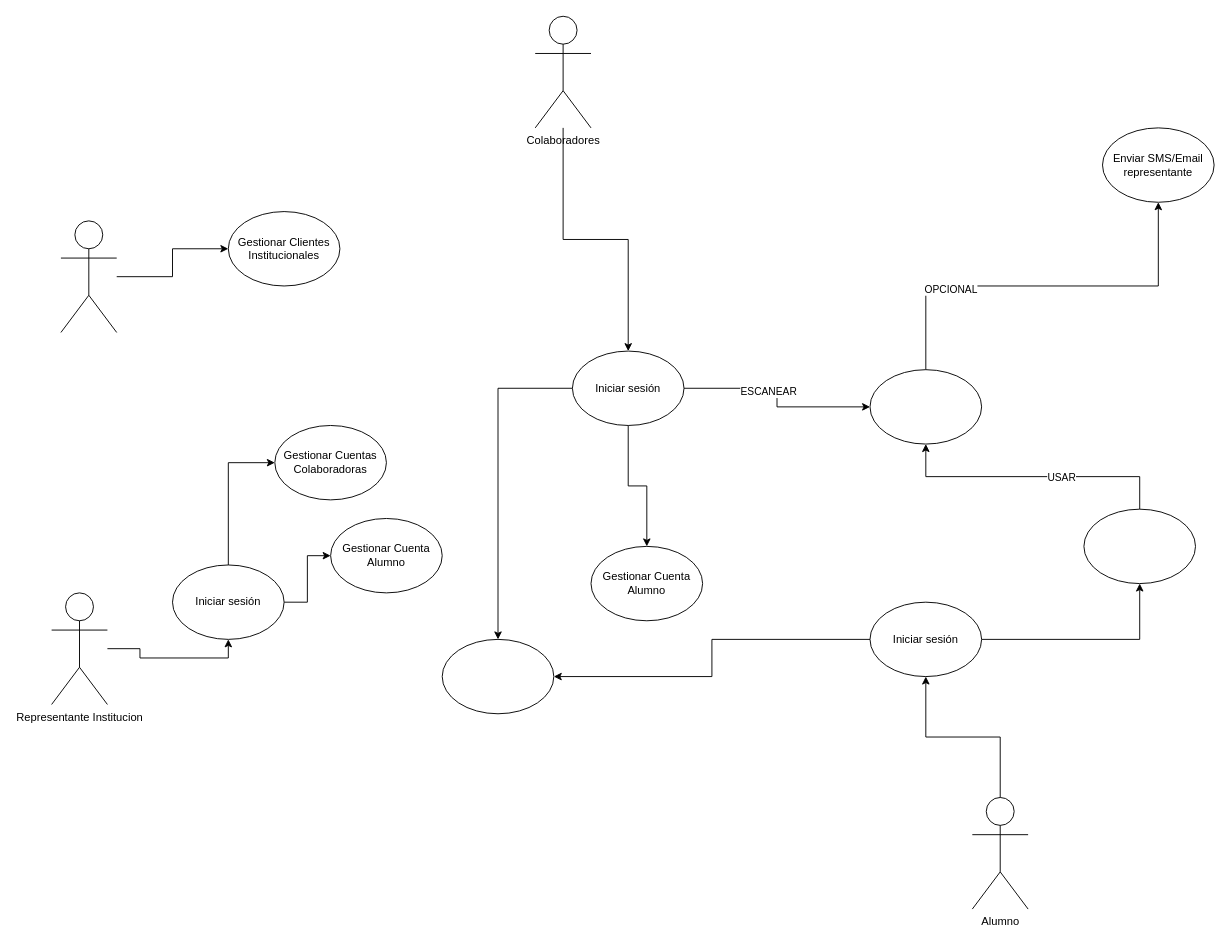
Some shapes in this 1230 by 945 pixel diagram are drawn without their labels. The shapes that lost their labels are listed below. From the top down, each one's centre as x and y in pixels, then its label:
At pixel 88 276: "Administrador".
At pixel 925 406: "QR Alumno".
At pixel 1139 546: "Ver Información personal".
At pixel 497 676: "Ver asistencias".
